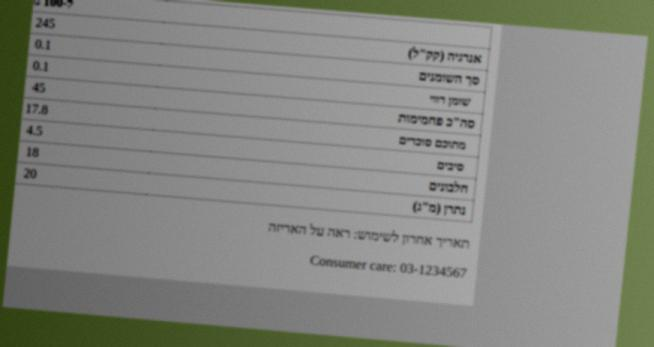carbs: (30, 79, 48, 97)
energy: (33, 14, 57, 32)
fat: (33, 35, 54, 54)
protein: (23, 143, 41, 161)
